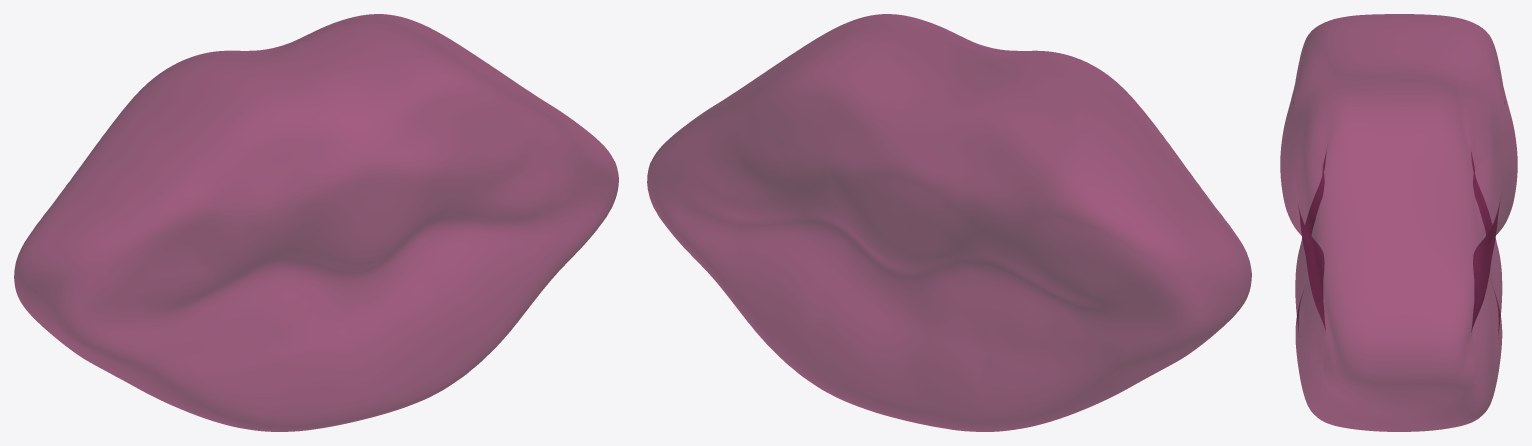
Rendered from tz-boca-uva.glb.
The picture shows the model from 3 angles, left to right: view 1: azimuth 30°, elevation 25°; view 2: azimuth 150°, elevation 25°; view 3: azimuth 270°, elevation 25°; orthographic projection. The views are drawn at different scales.
Visible parts, largest first — view 1: Lábios.003; view 2: Lábios.003; view 3: Lábios.003.
Part boxes in pixels (bbox=[...]): Lábios.003: bbox=[14, 14, 618, 431]; Lábios.003: bbox=[647, 14, 1251, 431]; Lábios.003: bbox=[1280, 14, 1517, 431].
Size of the model in its own units: 0.9975 by 0.5845 by 0.3761.
